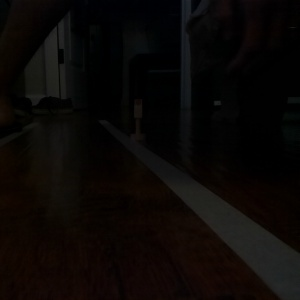traffic light red: (128, 95, 147, 141)
